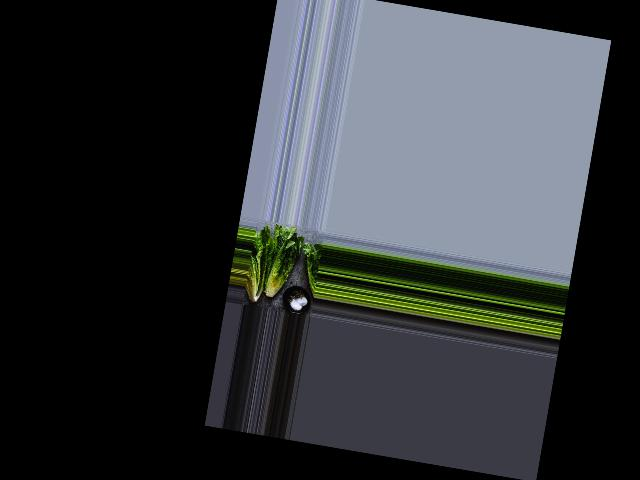lettuce: (242, 229, 275, 308)
